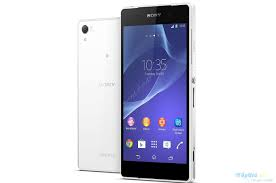sony: (73, 1, 201, 183)
